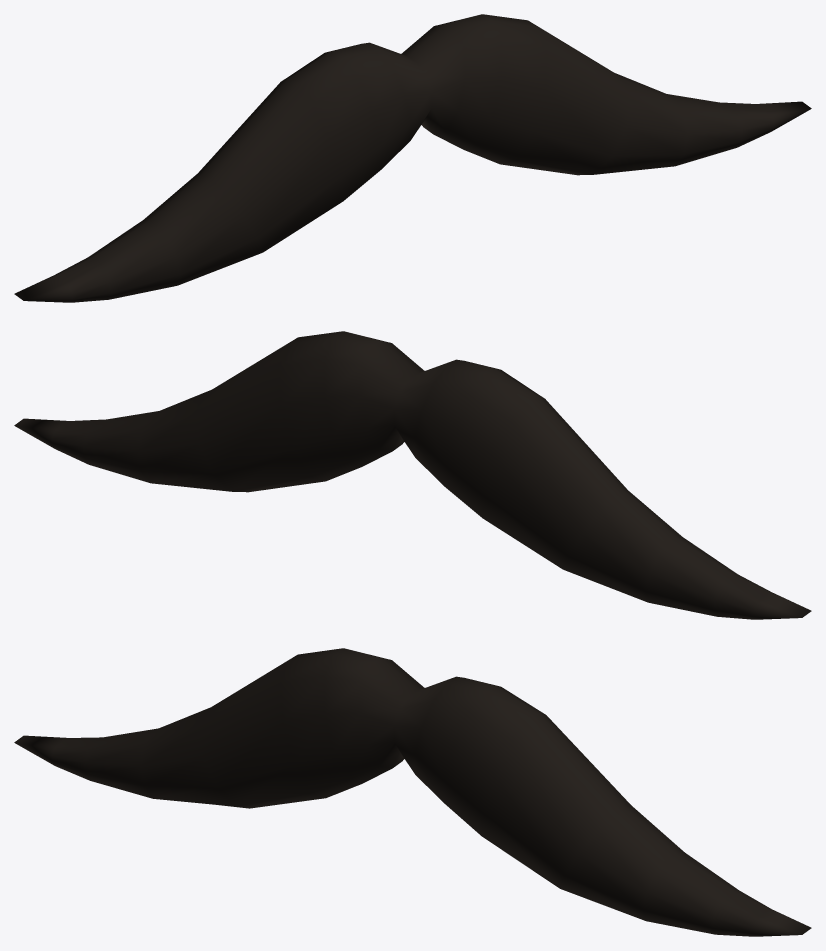
Rendered from Beard_12_01.fbx.
3 views of the same model, one above another, from view 1: azimuth 30°, elevation 25°; view 2: azimuth 150°, elevation 25°; view 3: azimuth 330°, elevation 25° (orthographic).
Parts seen in each view (by area): view 1: Beard_12_01; view 2: Beard_12_01; view 3: Beard_12_01.
Part boxes in pixels (x1,y1,x2,y2): Beard_12_01: [14, 14, 811, 302]; Beard_12_01: [14, 331, 811, 619]; Beard_12_01: [14, 648, 811, 936].
Size of the model in its own units: 19.83 by 4.47 by 2.17.
